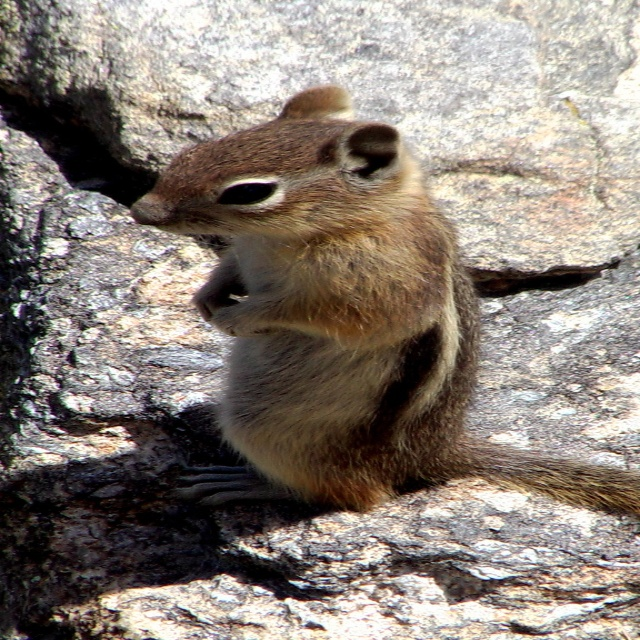Squirrel: (131, 83, 640, 515)
